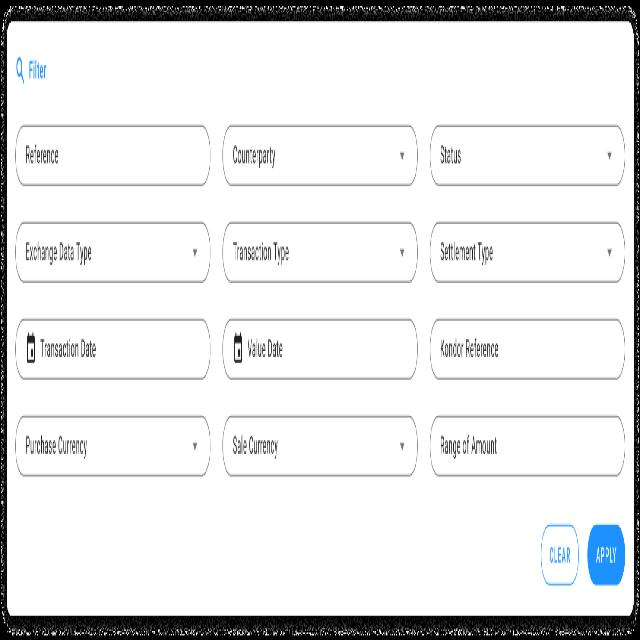QLabel: (594, 540, 619, 571), (548, 540, 572, 569), (28, 59, 47, 82)
VBtn: (540, 520, 579, 586), (587, 521, 626, 586)
VCard: (6, 19, 634, 618)
VCheckbox: (430, 220, 625, 286), (222, 220, 417, 286), (222, 122, 418, 187), (15, 414, 211, 478), (222, 414, 418, 478), (430, 123, 625, 187), (15, 222, 211, 283)
VIcon: (14, 50, 25, 92)
VInlineDatepicker: (223, 318, 418, 381), (15, 318, 210, 380)
VTextField: (429, 316, 625, 381), (15, 121, 210, 186), (430, 414, 625, 476)
